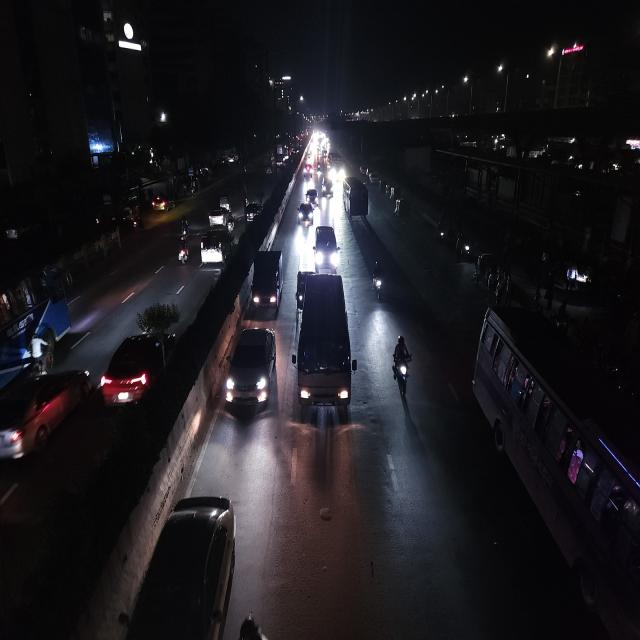bus: (470, 300, 639, 640), (0, 237, 72, 375), (345, 180, 370, 219), (328, 150, 345, 182)
car: (0, 364, 92, 471), (294, 269, 354, 416), (99, 324, 175, 417), (223, 322, 277, 421), (250, 247, 283, 316), (198, 225, 236, 274), (312, 222, 340, 270), (204, 205, 233, 228), (296, 200, 314, 228), (244, 198, 262, 224), (322, 177, 334, 202), (306, 186, 318, 206), (303, 162, 313, 180)
cng: (295, 267, 309, 312), (394, 196, 406, 222)
motorcycle: (390, 332, 414, 402), (369, 257, 386, 305), (177, 235, 191, 268), (177, 213, 191, 239)
